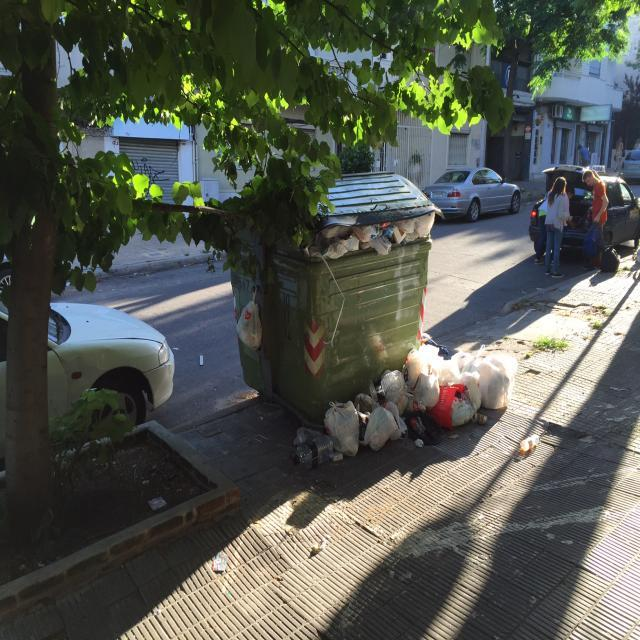garbage: (283, 329, 522, 481), (293, 212, 436, 270), (230, 282, 268, 356), (517, 428, 545, 462)
